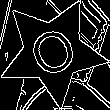O_SE: (22, 20, 83, 84)
